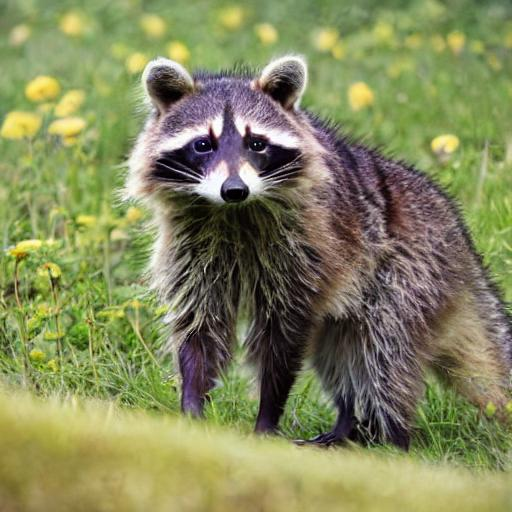raccoon: (100, 44, 512, 454)
